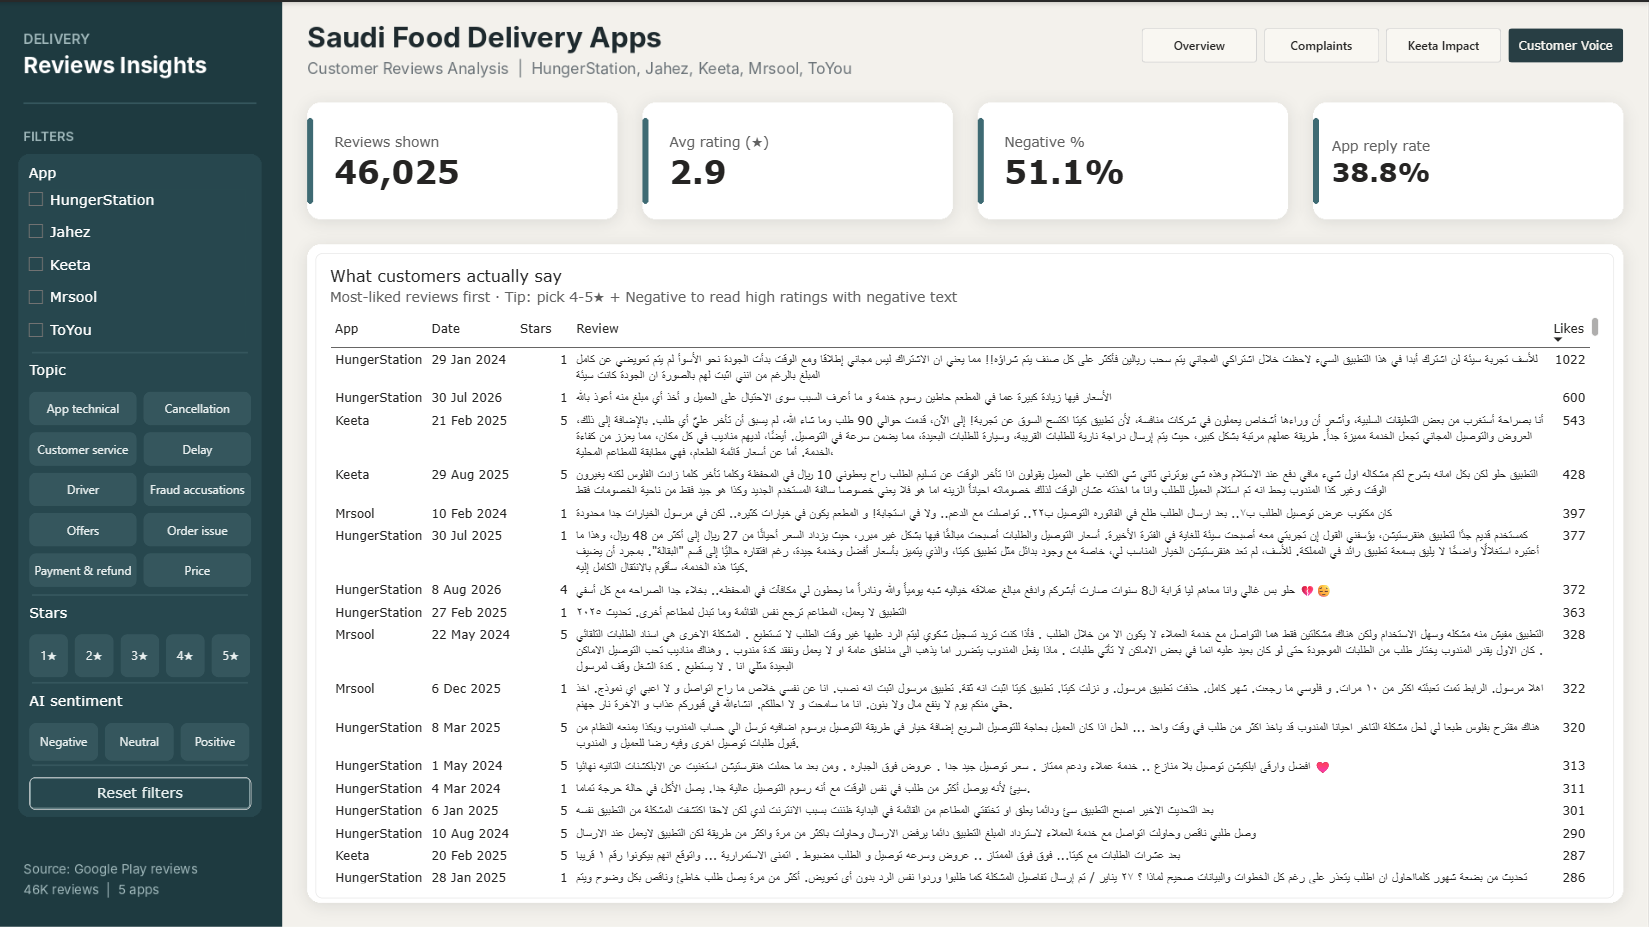

The page's visual inventory and layout, read from the dashboard file:
{"tool":"powerbi","page":{"name":"Customer Voice","canvas":[1920,1080],"ordinal":3},"visuals":[{"type":"cardVisual","fields":{"Data":["Fact_Reviews.Negative % Shown"]},"box":[1155,125,335,125],"z":0},{"type":"cardVisual","fields":{"Data":["Fact_Reviews.Reply Rate Shown"]},"box":[1534.8,125.5,335,125],"z":1000},{"type":"slicer","fields":{"Values":["Dim_App.App"]},"box":[27.7,188.2,261.2,218.8],"z":2000},{"type":"tableEx","title":"What customers actually say","fields":{"Values":["Dim_App.App","Fact_Reviews.Review Date","Fact_Reviews.score","Fact_Reviews.content","Fact_Reviews.thumbsUpCount"]},"box":[370,292,1510,750],"z":3000},{"type":"advancedSlicerVisual","title":"Stars","fields":{"Values":["Fact_Reviews.Stars Label"]},"box":[36,700,258,86],"z":4000},{"type":"advancedSlicerVisual","title":"AI sentiment","fields":{"Values":["Fact_Reviews.Sentiment"]},"box":[36,802,258,80],"z":5000},{"type":"advancedSlicerVisual","title":"Topic","fields":{"Values":["Review_Topics.Topic"]},"box":[36,418,258,266],"z":6000},{"type":"actionButton","box":[36,902,258,38],"z":7000},{"type":"cardVisual","fields":{"Data":["Fact_Reviews.Reviews Shown"]},"box":[375,125.5,335,125],"z":8000},{"type":"cardVisual","fields":{"Data":["Fact_Reviews.Avg Rating Shown"]},"box":[765,125,335,125],"z":9000},{"type":"pageNavigator","box":[1330,30,560,40],"z":9001}]}

Visuals, with their boxes on the page's 1920x1080 design canvas (x1, y1, x2, y2). These are canvas units, not pixel positions in the 1649x927 screenshot, which may show the page scaled, cropped or inside an application window:
cardVisual - Fact_Reviews.Negative % Shown: crop(1155, 125, 1490, 250)
cardVisual - Fact_Reviews.Reply Rate Shown: crop(1535, 126, 1870, 250)
slicer - Dim_App.App: crop(28, 188, 289, 407)
"What customers actually say" tableEx: crop(370, 292, 1880, 1042)
"Stars" advancedSlicerVisual: crop(36, 700, 294, 786)
"AI sentiment" advancedSlicerVisual: crop(36, 802, 294, 882)
"Topic" advancedSlicerVisual: crop(36, 418, 294, 684)
actionButton: crop(36, 902, 294, 940)
cardVisual - Fact_Reviews.Reviews Shown: crop(375, 126, 710, 250)
cardVisual - Fact_Reviews.Avg Rating Shown: crop(765, 125, 1100, 250)
pageNavigator: crop(1330, 30, 1890, 70)
